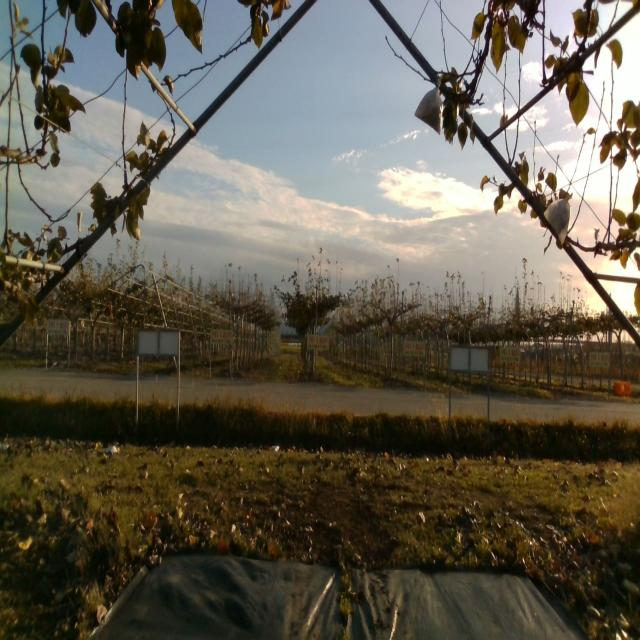pearbags: (543, 193, 576, 249), (414, 80, 444, 135)
